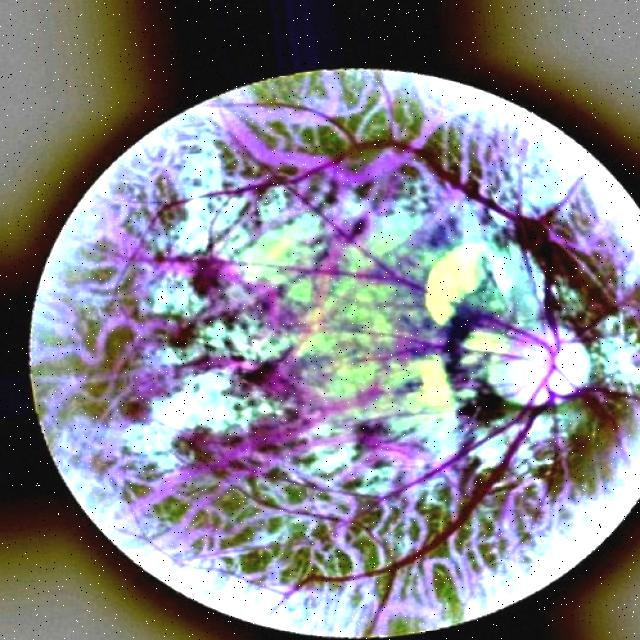Macula: (213, 350, 293, 407)
Nerves: (273, 102, 553, 336), (310, 380, 545, 586), (267, 262, 555, 366)
Optic Disk: (487, 315, 597, 407)
